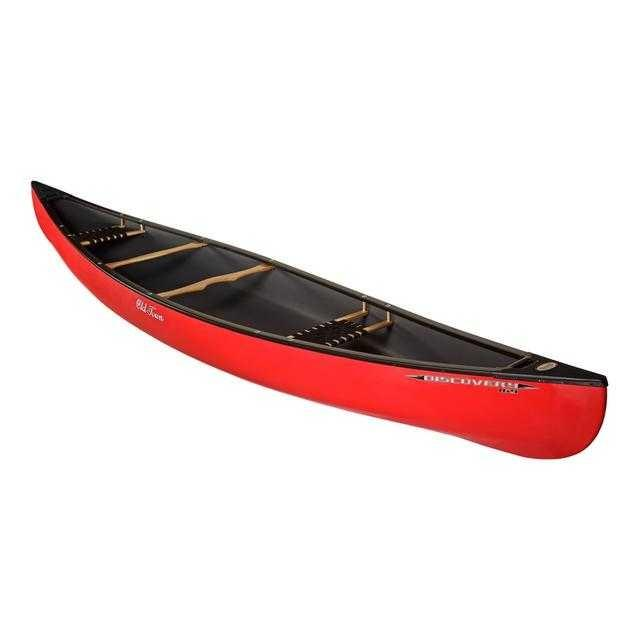kayak: (29, 183, 605, 465)
